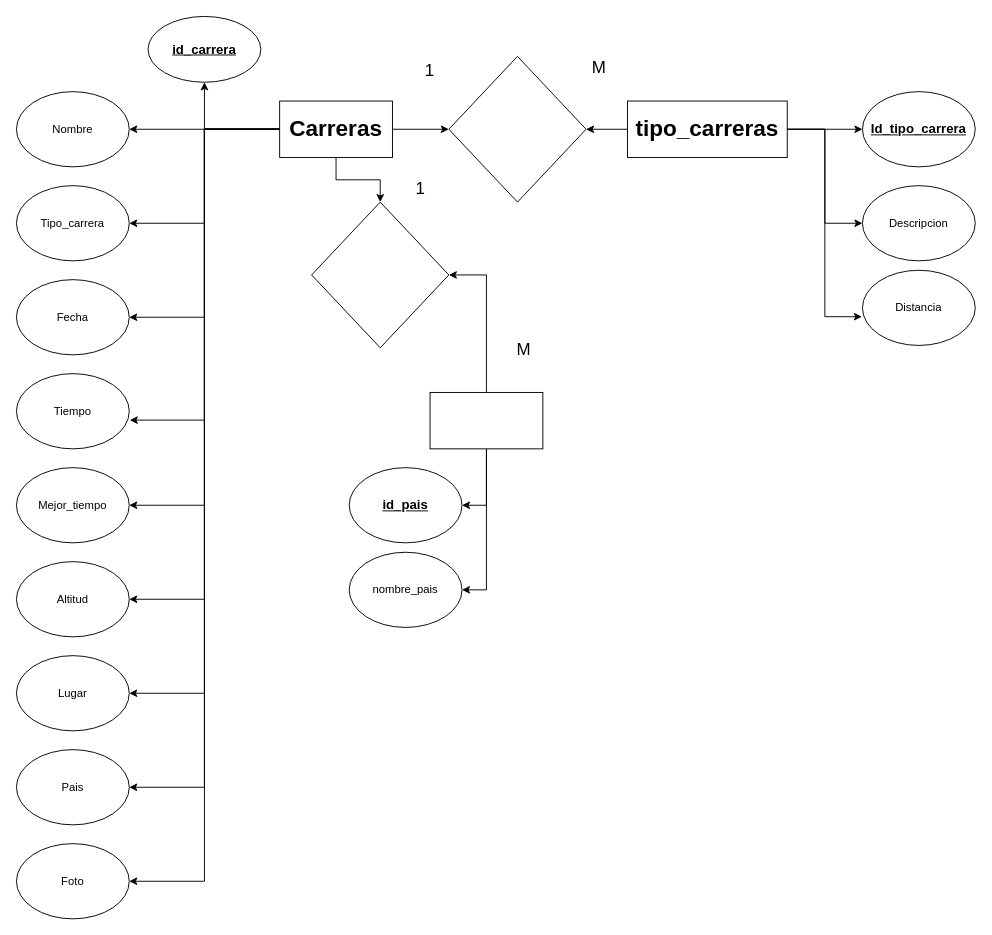
Image size: 992x935. Some labels were removed from this diagram. The centre of each missing label's shape, as x and y in pixels:
paises: (486,420)
Pertenecer: (517,128)
Se corren: (380,274)
